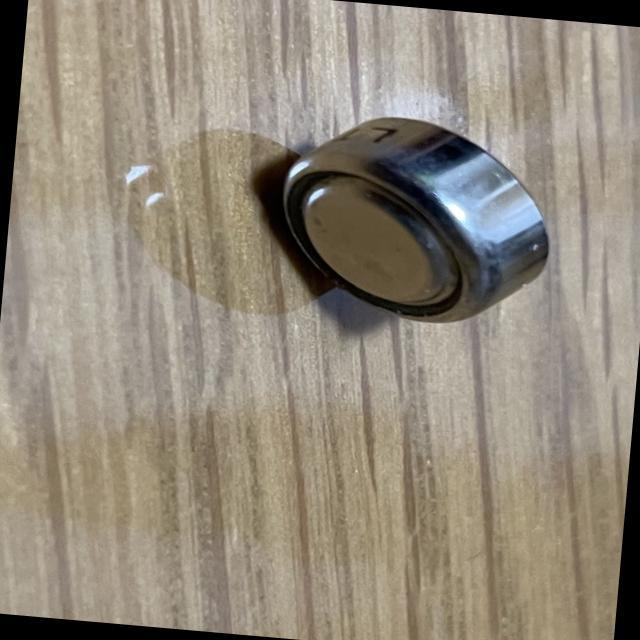COIN: (271, 105, 560, 334)
